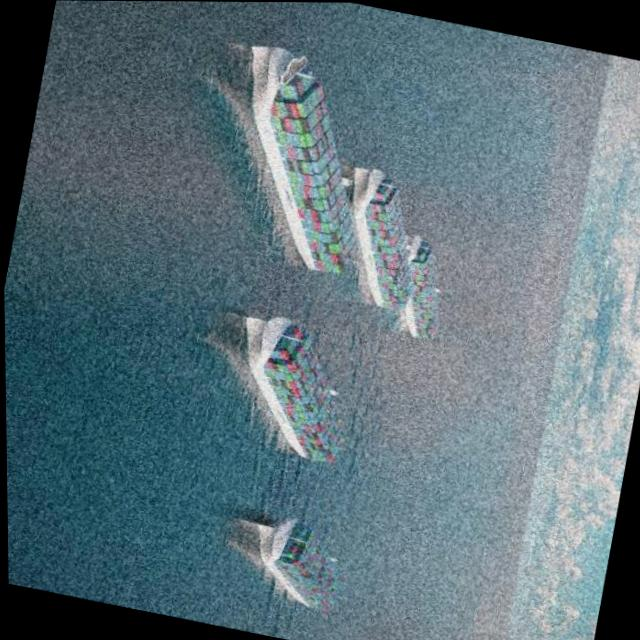ship2: (250, 47, 356, 279), (233, 314, 346, 467), (353, 166, 437, 339), (231, 519, 335, 615)
